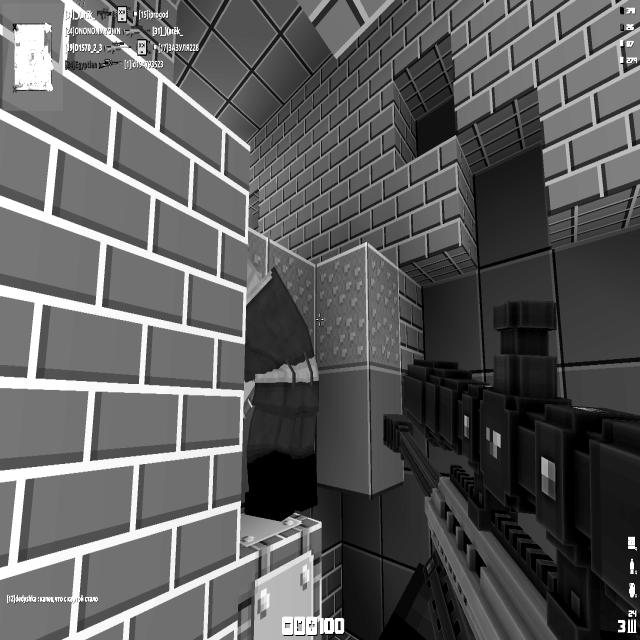Head: (246, 257, 261, 291)
Player: (244, 256, 318, 520)
